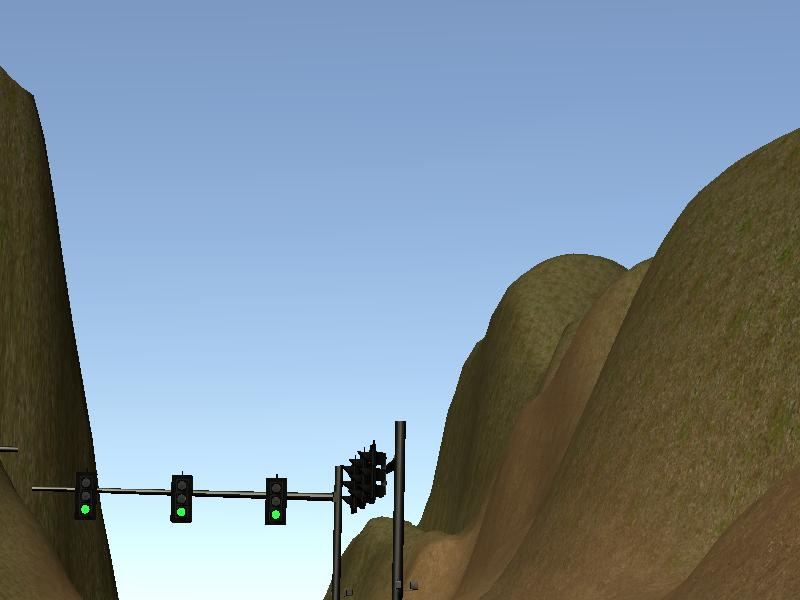Green: (265, 477, 286, 525), (171, 476, 191, 522), (78, 472, 97, 518)
